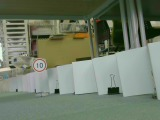speed_10: (32, 58, 47, 73)
